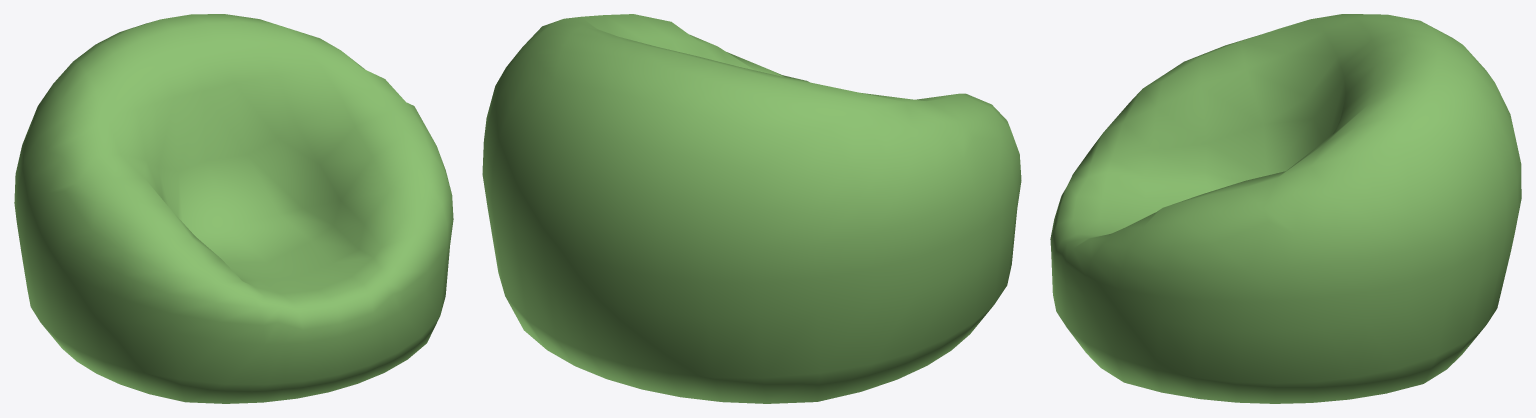
Rendered from sakkituoli.fbx.
3 views of the same model, side by side, from view 1: azimuth 30°, elevation 25°; view 2: azimuth 150°, elevation 25°; view 3: azimuth 270°, elevation 25° (orthographic). The views are drawn at different scales.
Parts seen in each view (by area): view 1: sakkituoli; view 2: sakkituoli; view 3: sakkituoli.
Boxes of the visible parts, box(x1,y1,x2,y2) form: sakkituoli: box(14, 14, 453, 403); sakkituoli: box(482, 14, 1021, 403); sakkituoli: box(1050, 14, 1521, 403).
Size of the model in its own units: 104 by 68.73 by 104.
